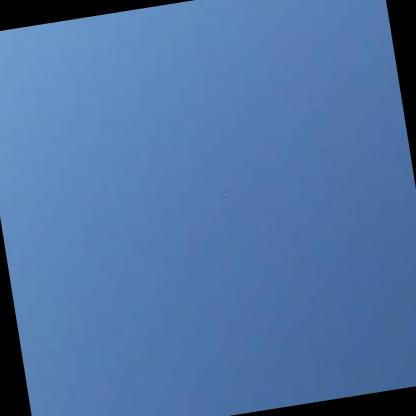plane: (220, 187, 230, 200)
